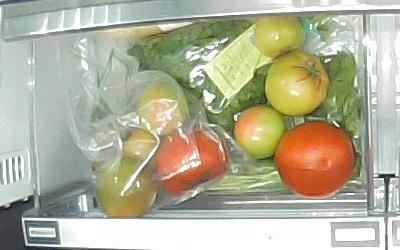tomato: (274, 121, 355, 197), (264, 51, 330, 116), (234, 105, 285, 159), (256, 15, 306, 59)
tomato_vinyl: (156, 126, 230, 194), (96, 156, 158, 217), (137, 79, 189, 136)
